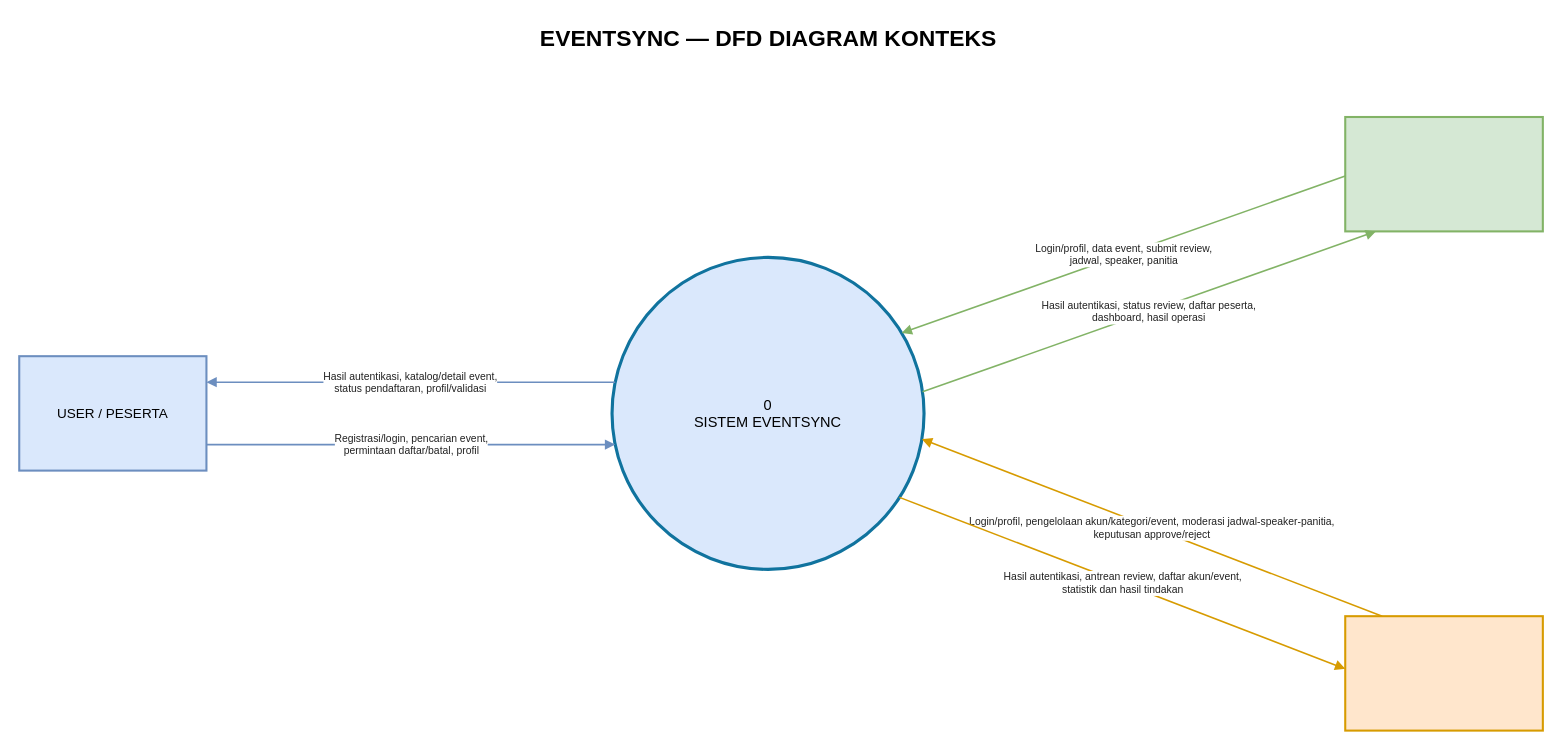
Image size: 1561x749. Some labels were removed from this diagram. The shapes that lost their labels are listed below. From the top down, each one's centre as x and y in pixels, then its label:
At (1443,173): "ORGANIZER".
At (1443,673): "ADMIN".
